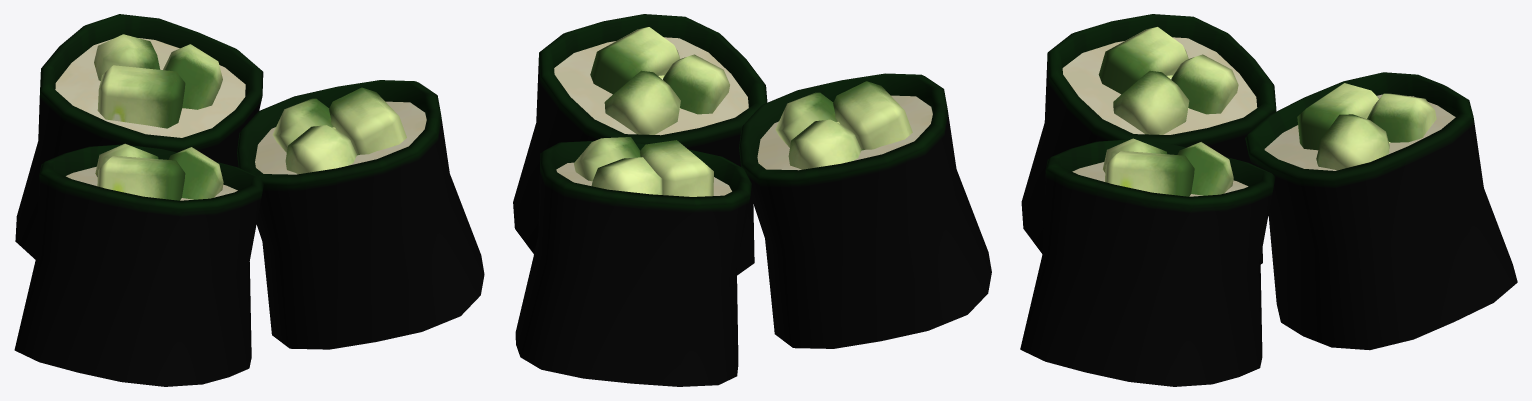
Rendered from m_recipe_sushi_03.fbx.
The picture shows the model from 3 angles, left to right: view 1: azimuth 30°, elevation 25°; view 2: azimuth 150°, elevation 25°; view 3: azimuth 270°, elevation 25°; orthographic projection. The views are drawn at different scales.
Visible parts, largest first — view 1: m_recipe_sushi_03_2, m_recipe_sushi_03_0, m_recipe_sushi_03_1; view 2: m_recipe_sushi_03_2, m_recipe_sushi_03_0, m_recipe_sushi_03_1; view 3: m_recipe_sushi_03_2, m_recipe_sushi_03_0, m_recipe_sushi_03_1.
Boxes of the visible parts, x1,y1,x2,y2 form: m_recipe_sushi_03_2: [14, 14, 484, 386]; m_recipe_sushi_03_0: [94, 34, 406, 200]; m_recipe_sushi_03_1: [55, 38, 426, 200]; m_recipe_sushi_03_2: [513, 14, 991, 386]; m_recipe_sushi_03_0: [574, 27, 912, 196]; m_recipe_sushi_03_1: [554, 37, 932, 195]; m_recipe_sushi_03_2: [1020, 14, 1517, 386]; m_recipe_sushi_03_0: [1098, 27, 1436, 196]; m_recipe_sushi_03_1: [1062, 37, 1455, 196].
Bounding box in the file's own units: 0.694 × 0.3183 × 0.6565.
3 materials, 3 textured.
